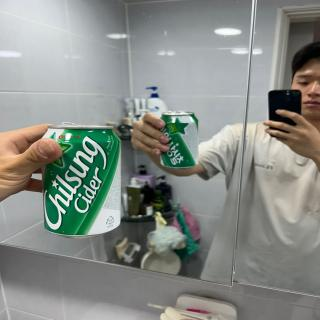cocacola: (39, 122, 122, 241)
